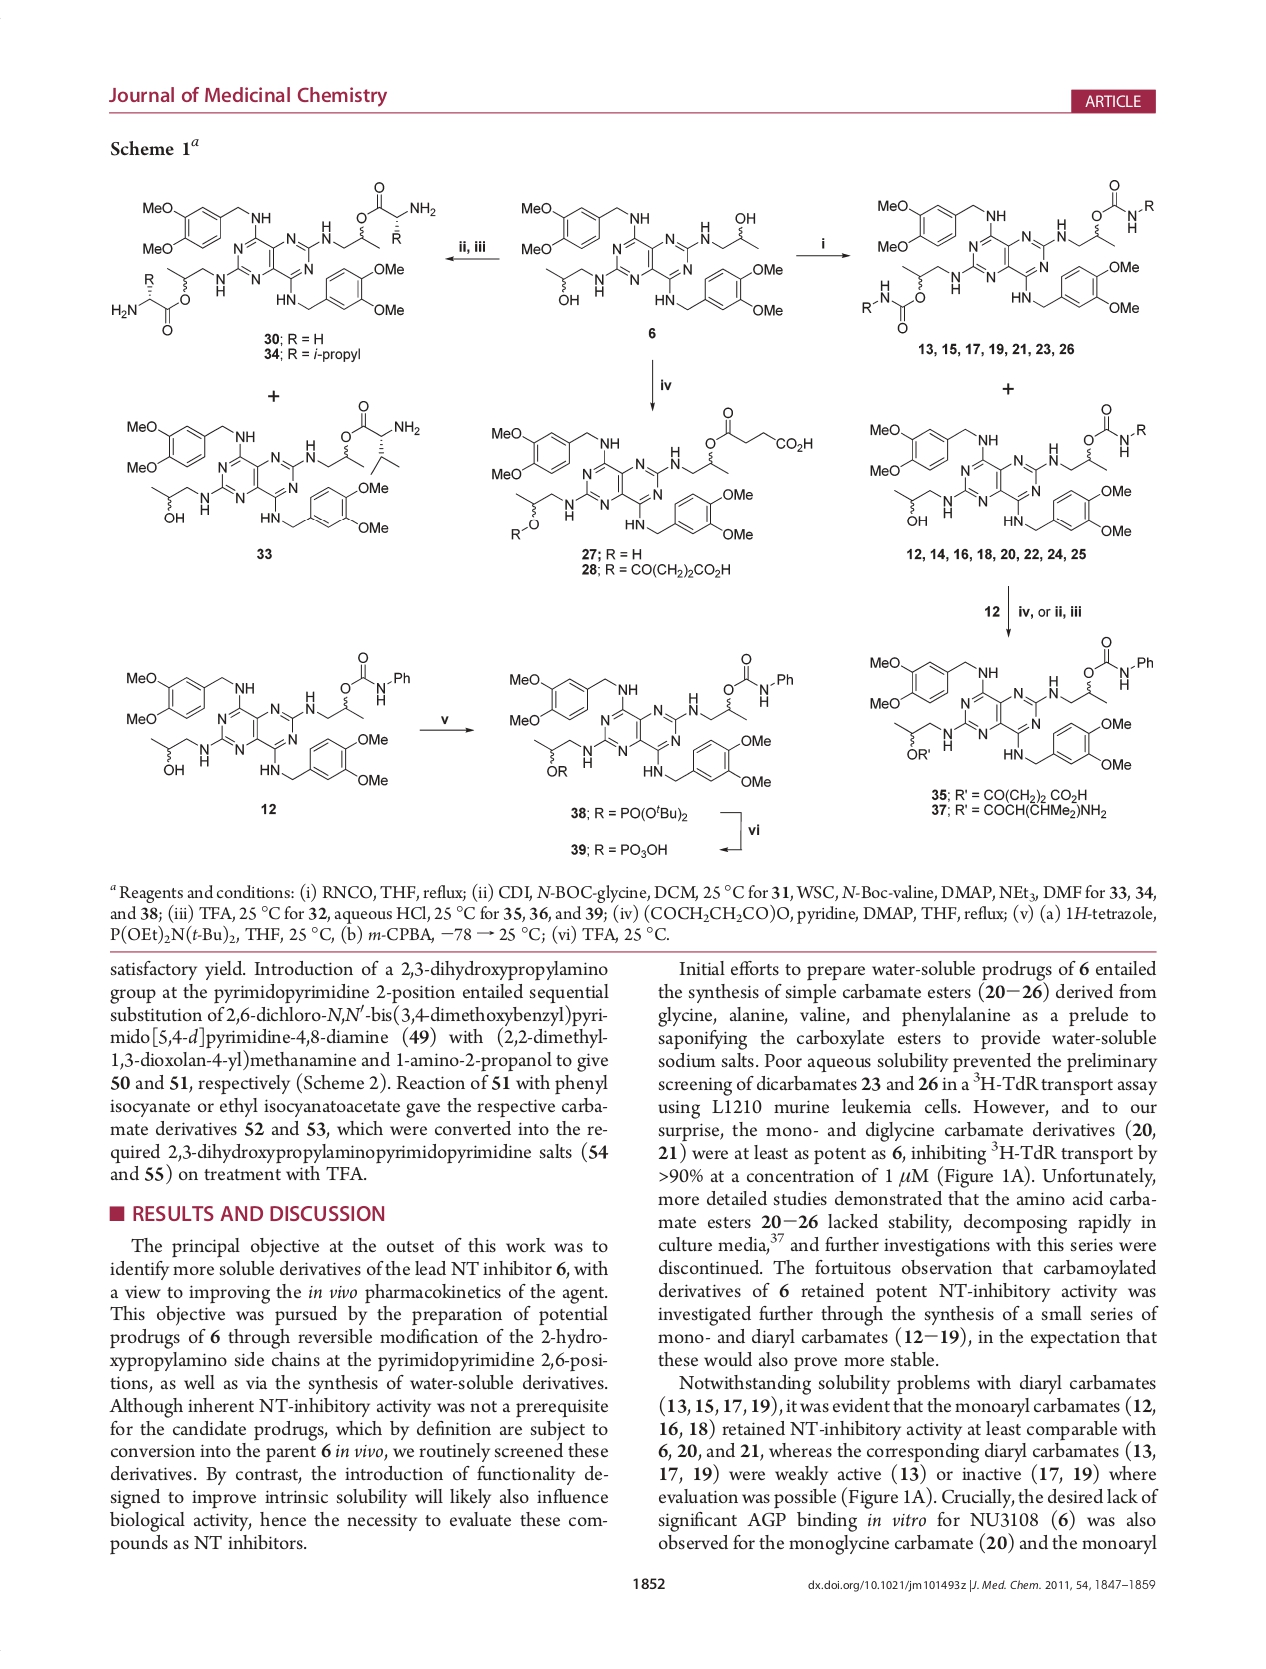exist_molecular: (108, 180, 440, 336), (851, 176, 1156, 336), (484, 406, 814, 543), (116, 648, 412, 793), (859, 634, 1156, 774), (118, 399, 423, 535), (504, 650, 797, 790), (860, 402, 1148, 539), (508, 193, 793, 322)
